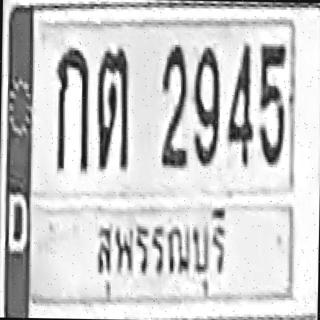A01: (54, 45, 90, 171)
A21: (95, 47, 130, 170)
N02: (160, 43, 188, 166)
N04: (225, 42, 253, 165)
N05: (258, 43, 286, 166)
N09: (191, 45, 221, 166)
P66: (84, 205, 233, 304)
